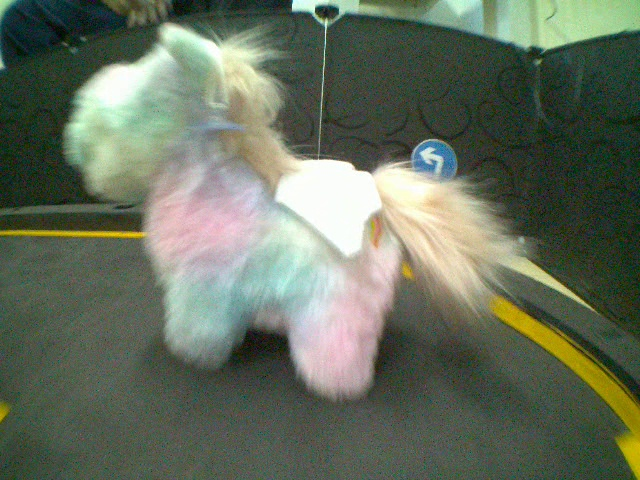unicorn: (55, 15, 536, 405)
